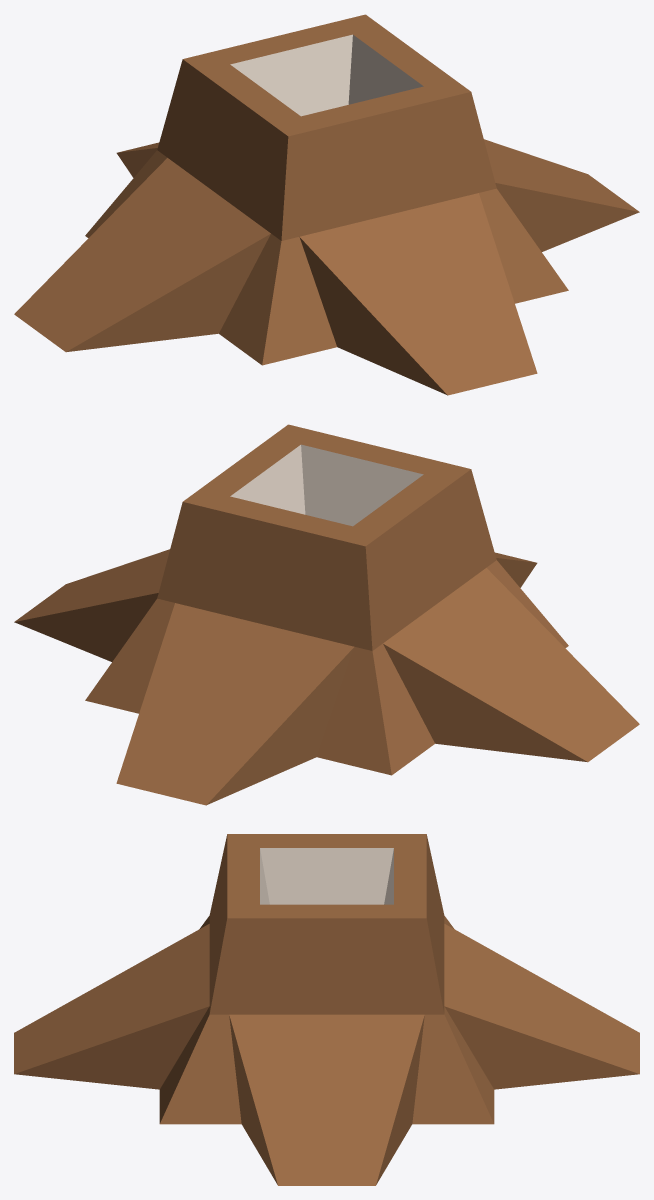
The model's file is stump_squareDetailedWide.glb.
3 renders of one model, top to bottom at view 1: azimuth 30°, elevation 25°; view 2: azimuth 150°, elevation 25°; view 3: azimuth 270°, elevation 25°, orthographic. The views are drawn at different scales.
Parts seen in each view (by area): view 1: stump_squareDetailedWide; view 2: stump_squareDetailedWide; view 3: stump_squareDetailedWide.
Part boxes in pixels (x1,y1,x2,y2): stump_squareDetailedWide: [14, 14, 639, 395]; stump_squareDetailedWide: [14, 424, 639, 805]; stump_squareDetailedWide: [14, 834, 639, 1185].
Bounding box in the file's own units: 0.64 × 0.2 × 0.64.
